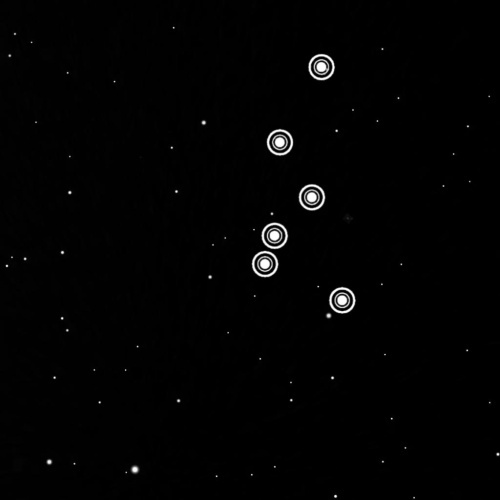cassiopeia: (247, 46, 362, 320)
